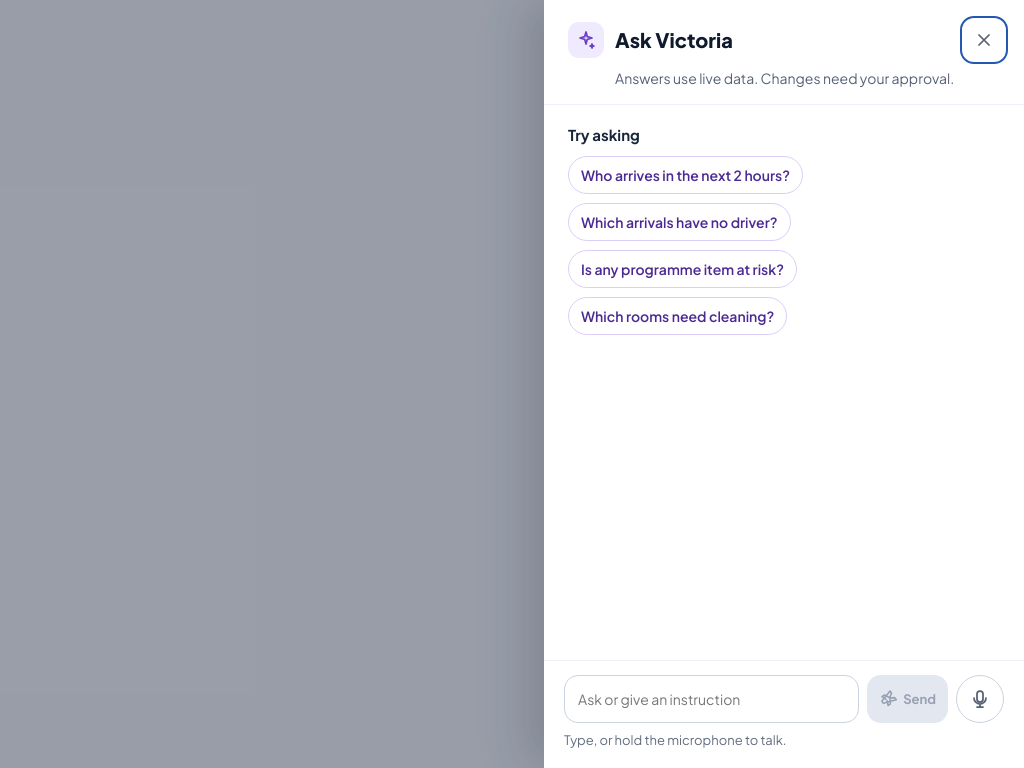
Test case: CopilotDrawer › says when live data cannot be reached, with Retry
Click the button "Which rooms need cleaning?" at (678, 316), box [568, 297, 787, 335]
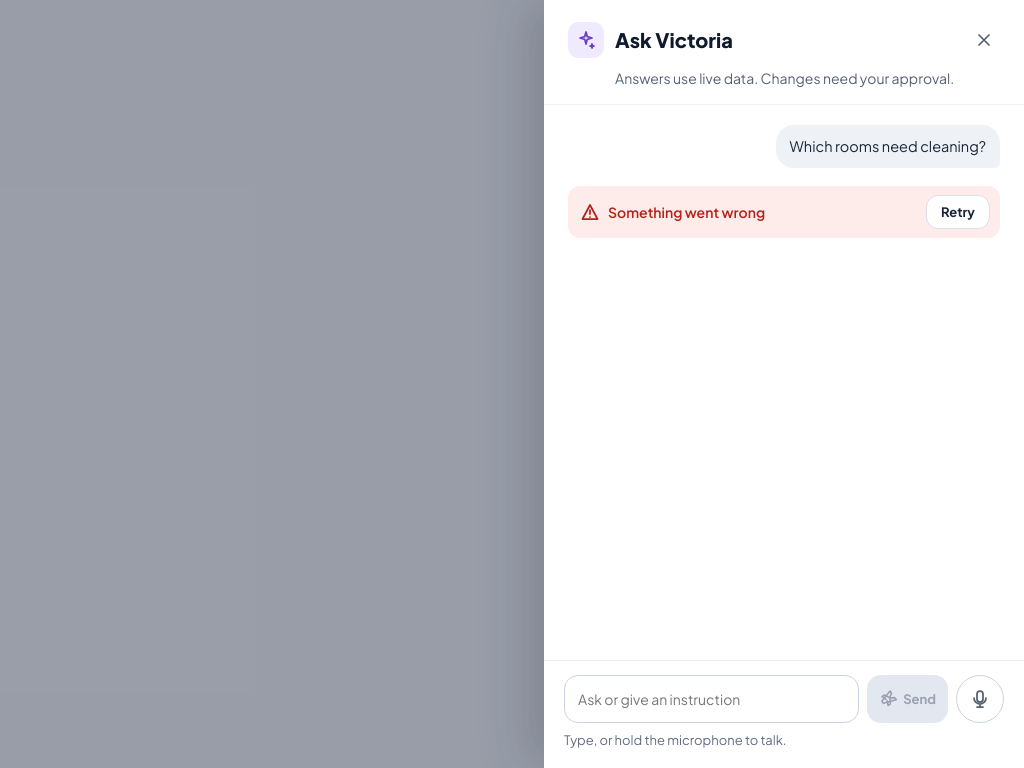
Result: the message shows "Something went wrong" at [608, 203, 765, 221]
Result: the button "Retry" is shown at [926, 195, 990, 229]
